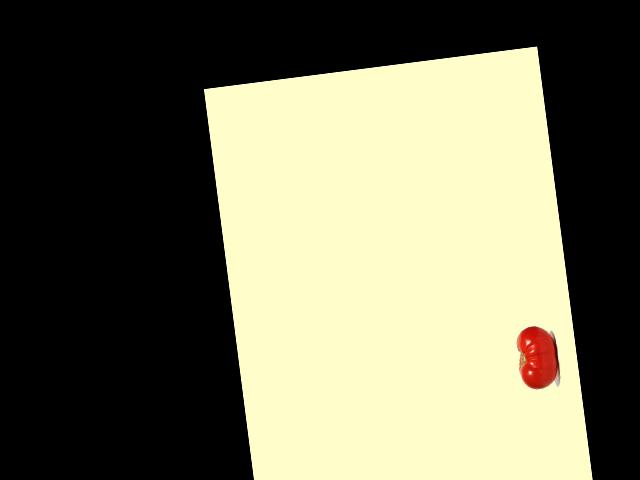tomato: (514, 323, 560, 390)
